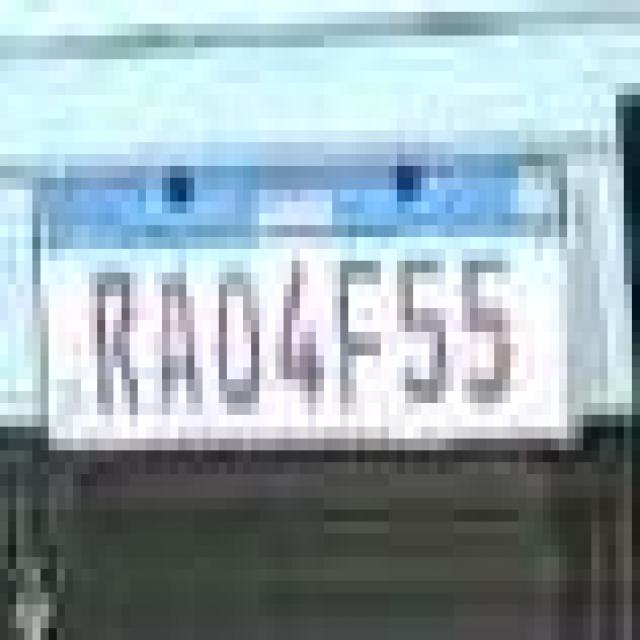4: (267, 255, 325, 412)
5: (453, 249, 526, 408), (389, 252, 452, 406)
F: (330, 249, 386, 410)
O: (209, 264, 268, 420)
R: (87, 257, 147, 422)
